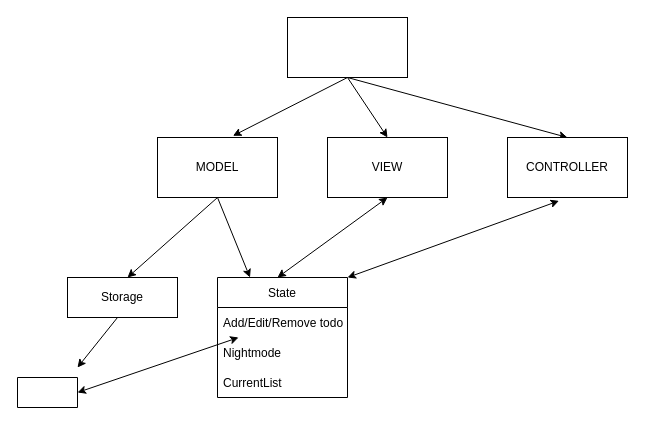
The diagram is 645 pixels wide and 425 high, and some of its shapes have lost their labels. The shapes that lost their labels are listed below. From the top down, each one's centre as x and y in pixels, then its label:
point (347, 47): MVC
point (47, 392): Todos
